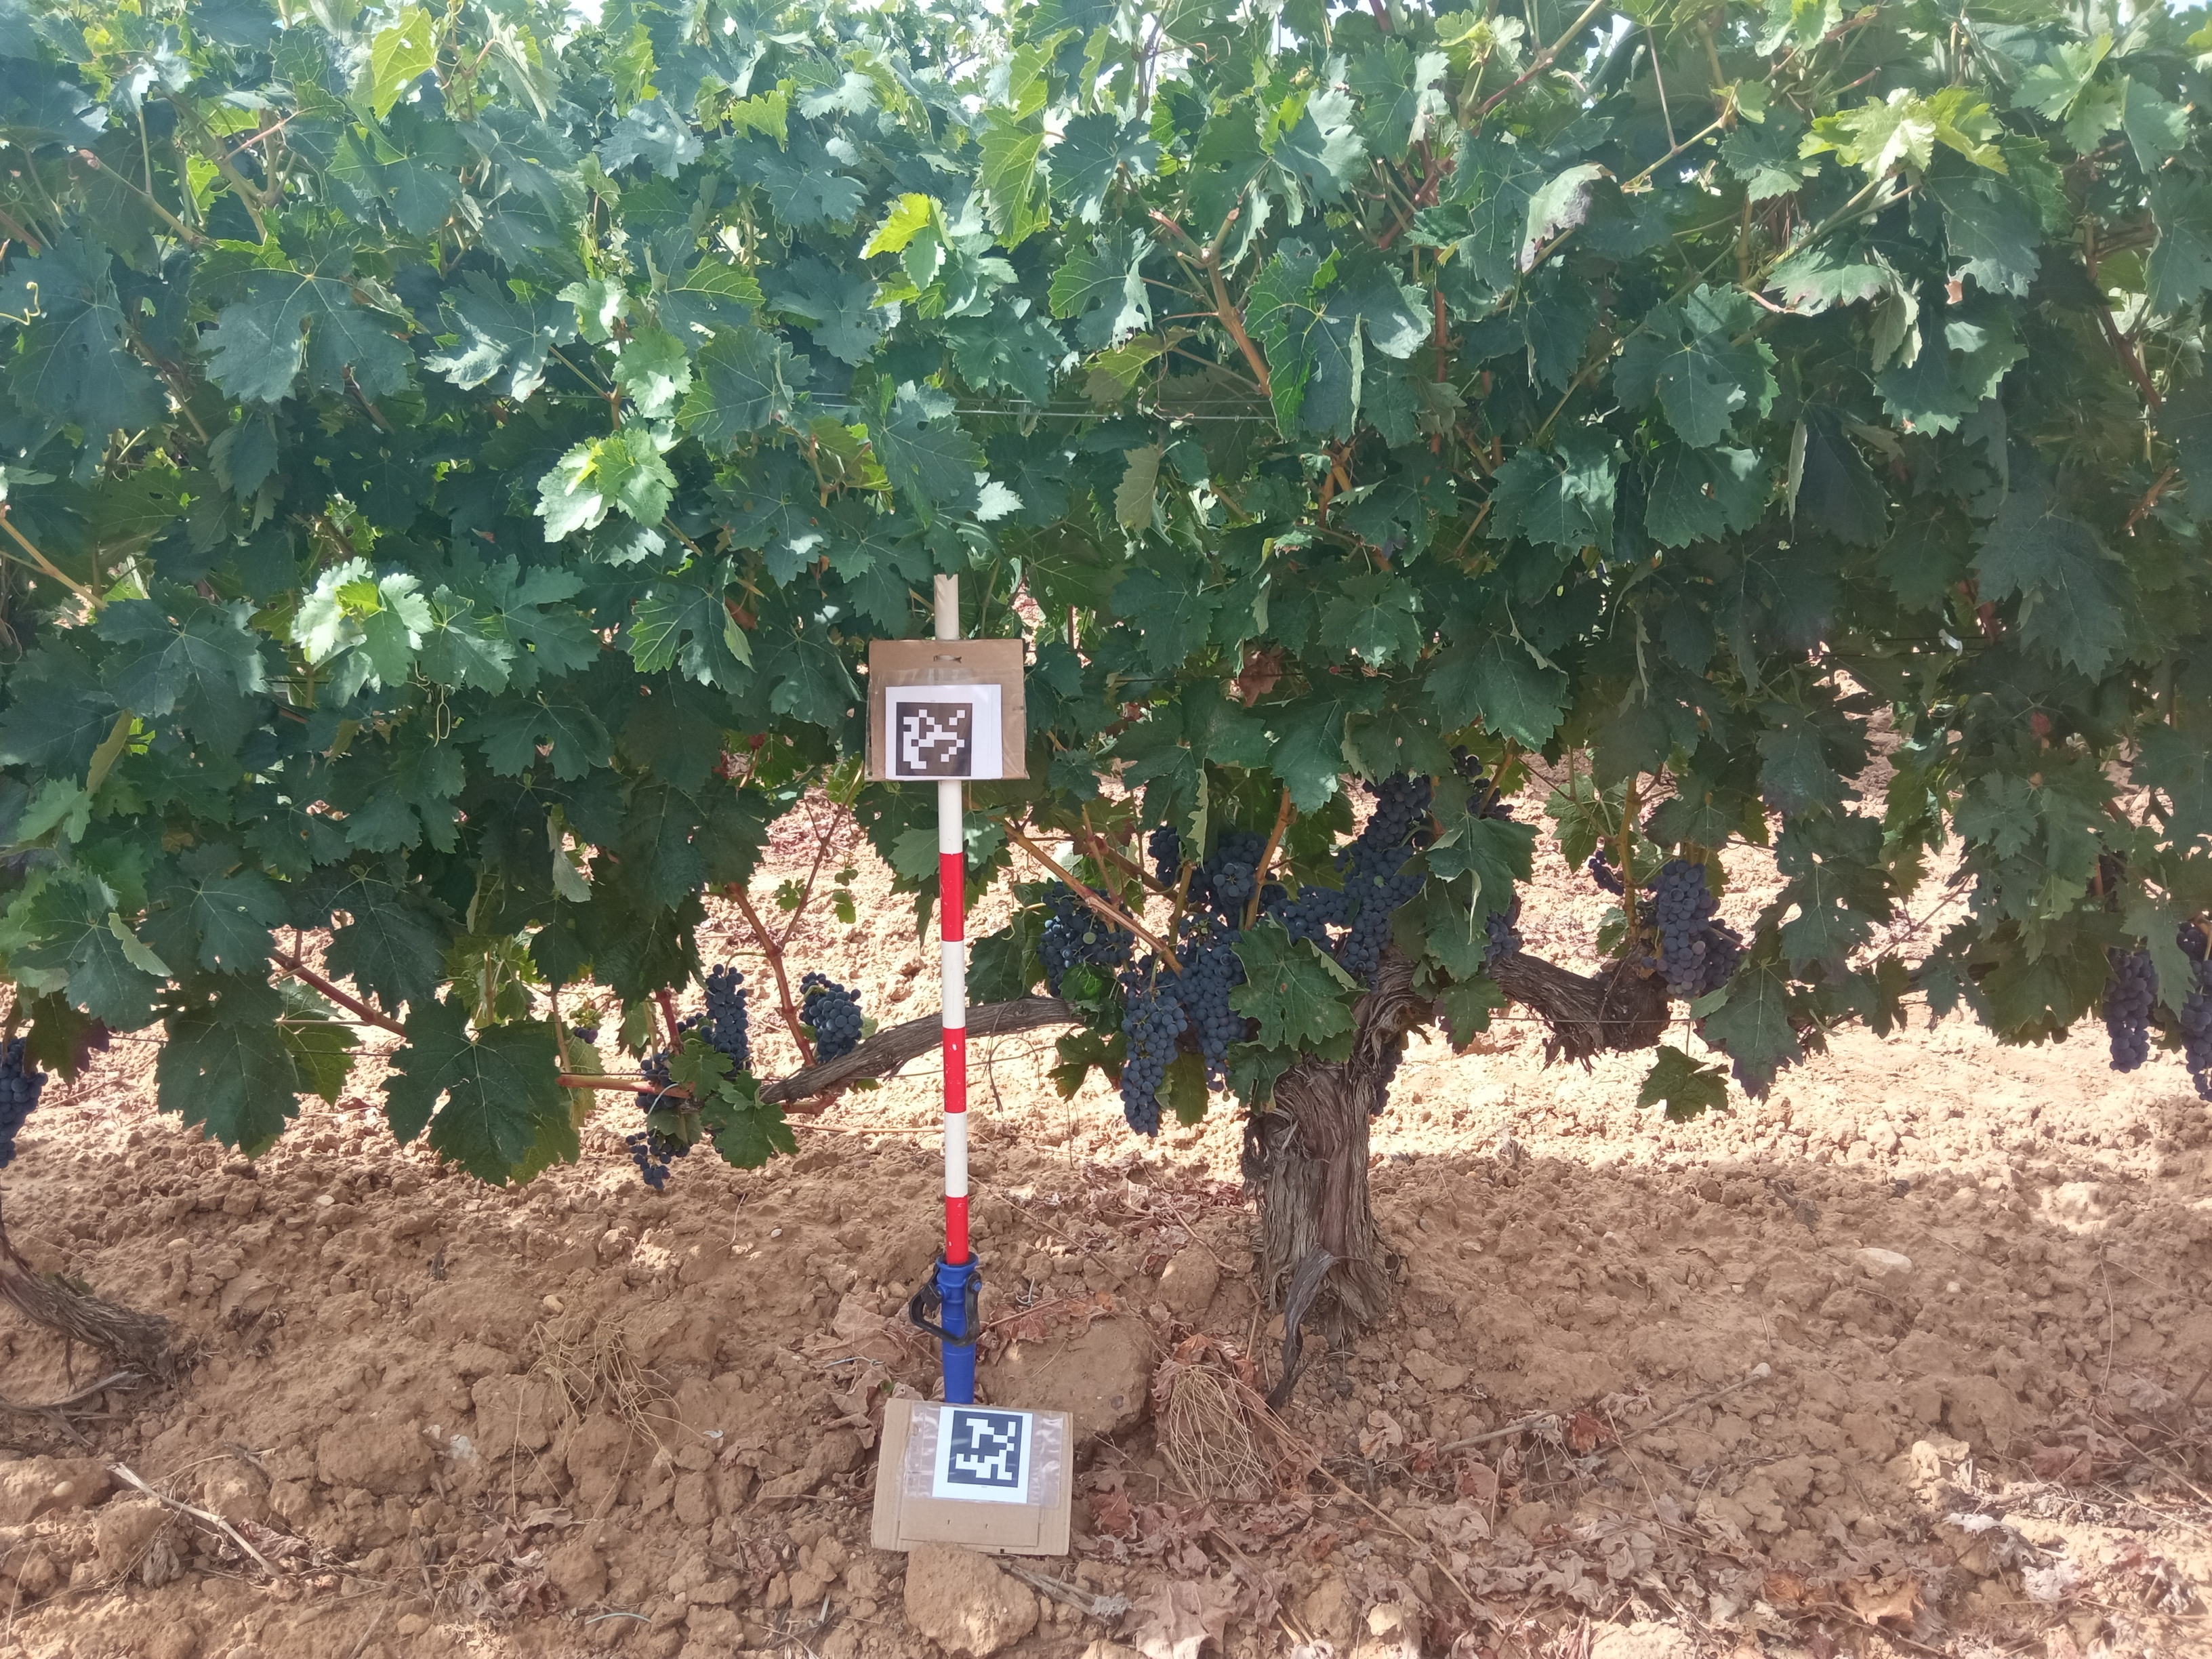grapes: (1338, 845, 1426, 993), (1036, 882, 1134, 997), (1176, 939, 1245, 1100), (1644, 861, 1721, 1004), (1334, 774, 1432, 884), (1118, 985, 1186, 1136), (2102, 948, 2160, 1073), (0, 1037, 49, 1168), (2177, 920, 2212, 1101), (1186, 831, 1268, 903), (1268, 885, 1353, 951), (700, 964, 751, 1073), (799, 972, 862, 1060), (1451, 744, 1514, 821), (1116, 936, 1186, 992), (627, 1129, 690, 1190), (636, 1053, 690, 1114), (1702, 918, 1743, 993), (1486, 896, 1524, 974), (1211, 863, 1254, 927), (1148, 824, 1186, 887), (2088, 850, 2127, 910), (1179, 913, 1240, 948), (1588, 852, 1623, 896), (1256, 871, 1287, 913), (570, 1007, 603, 1044), (678, 1012, 704, 1032)
